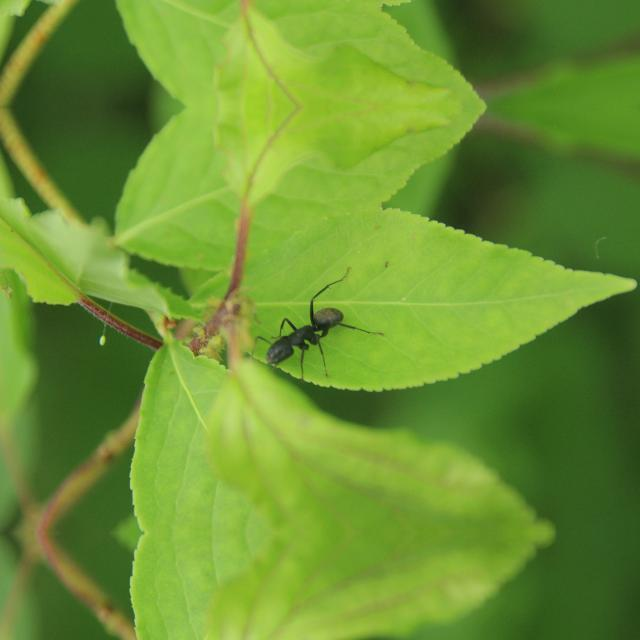Camponotus: (245, 278, 353, 386)
